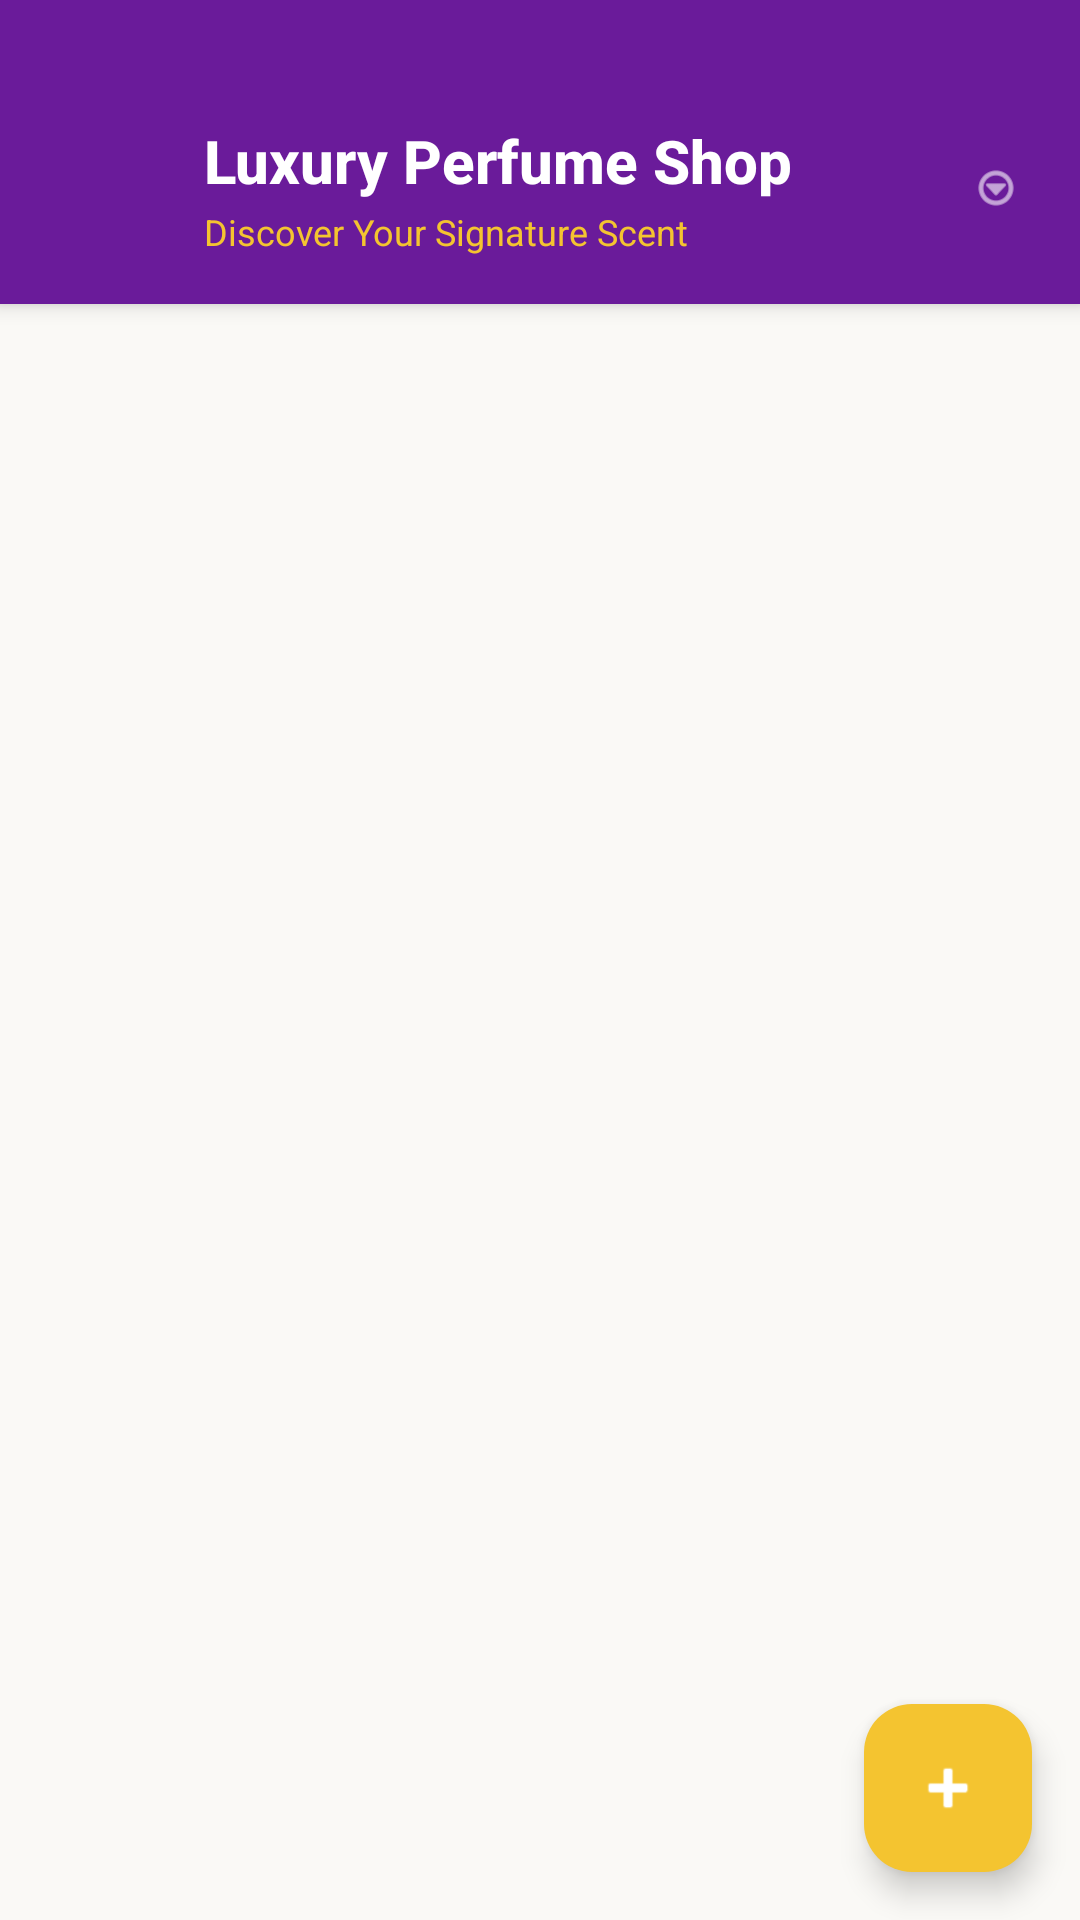

Screen size 1080 × 1920. Icon name, then its center in pixels as (x,y):
Add Perfume: (948,1788)
Menu: (996,188)
